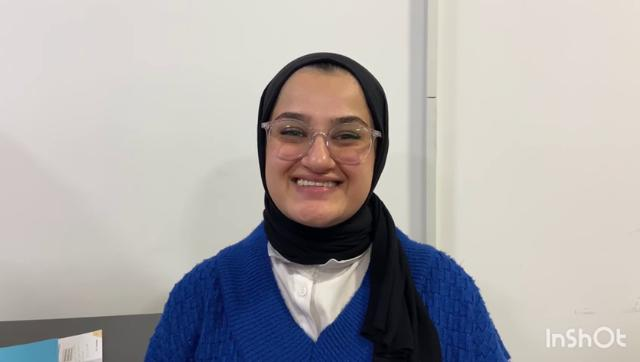senang: (263, 72, 379, 218)
